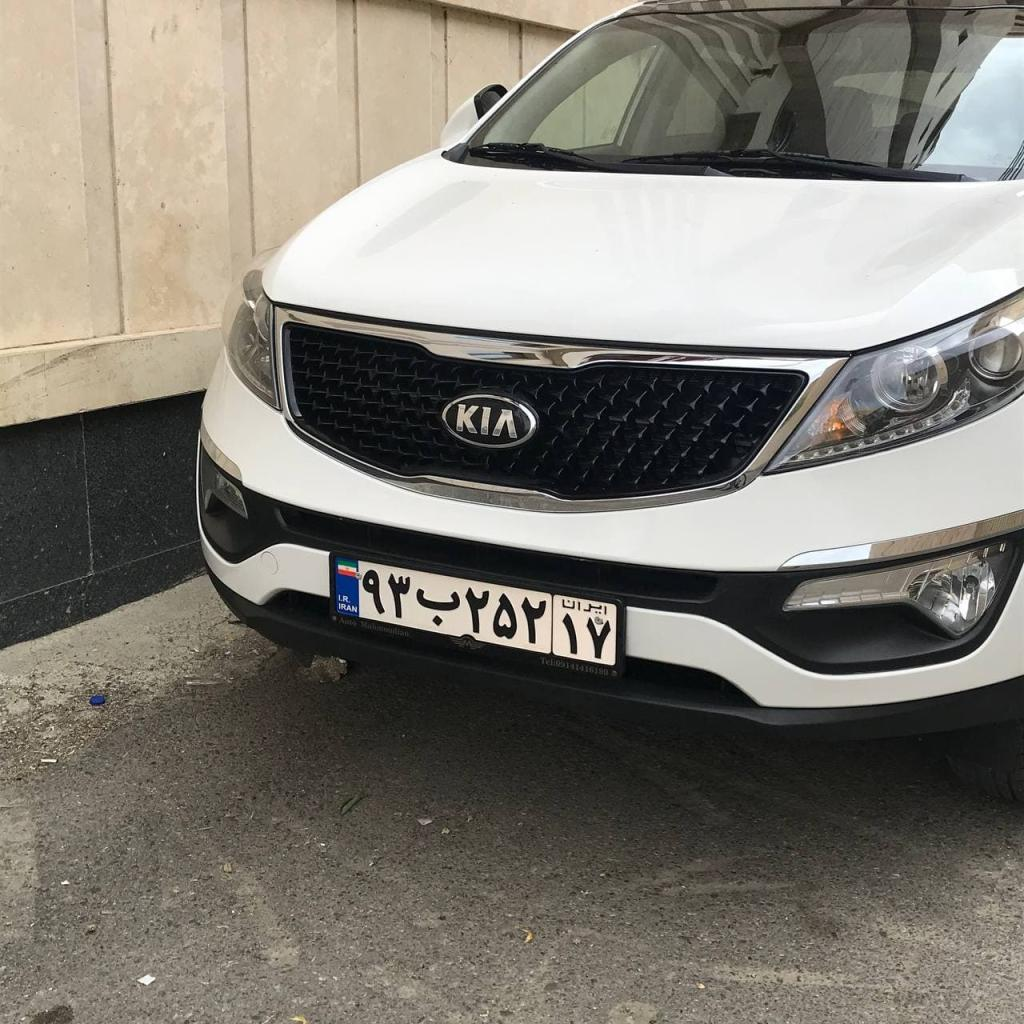Plates: (336, 557, 616, 666)
